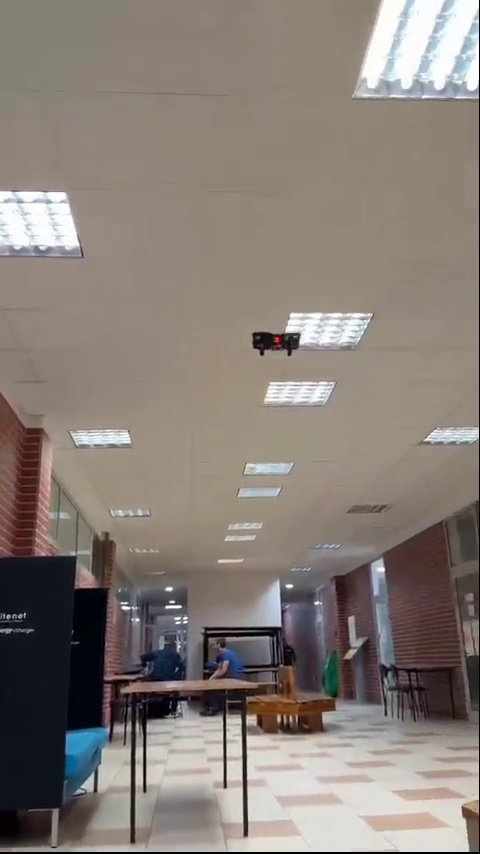drone: (249, 330, 298, 359)
no vest: (204, 629, 248, 677), (152, 637, 185, 683)
